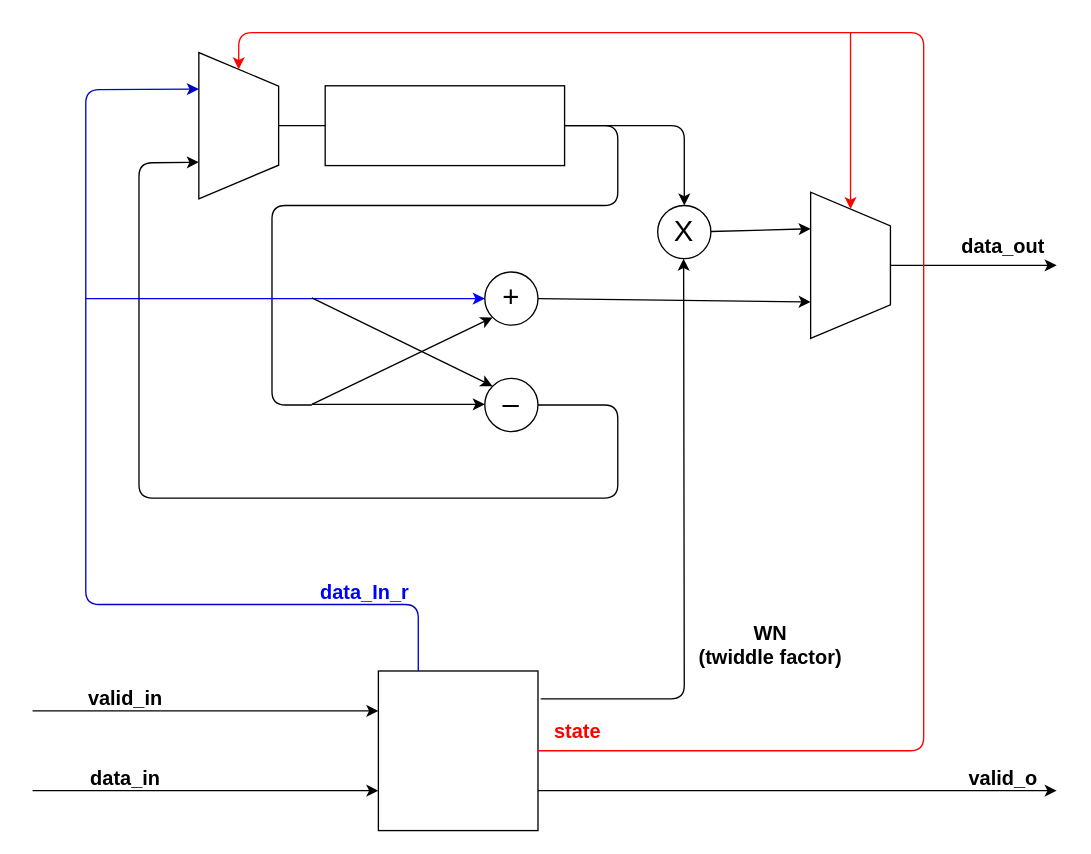
Some shapes in this 1091 by 854 pixel diagram are drawn without their labels. Here are the shapes that lost their labels. From the top down, the box of each, then its label:
(324, 84, 565, 166): SR16
(377, 670, 538, 831): CTRL16
